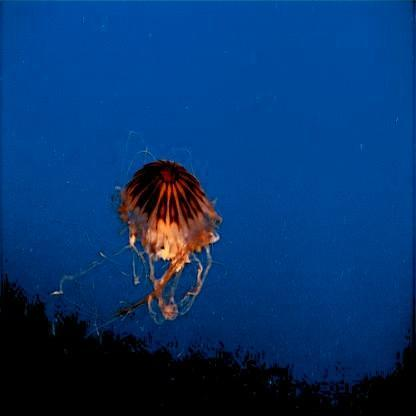Moon: (118, 159, 222, 318)
